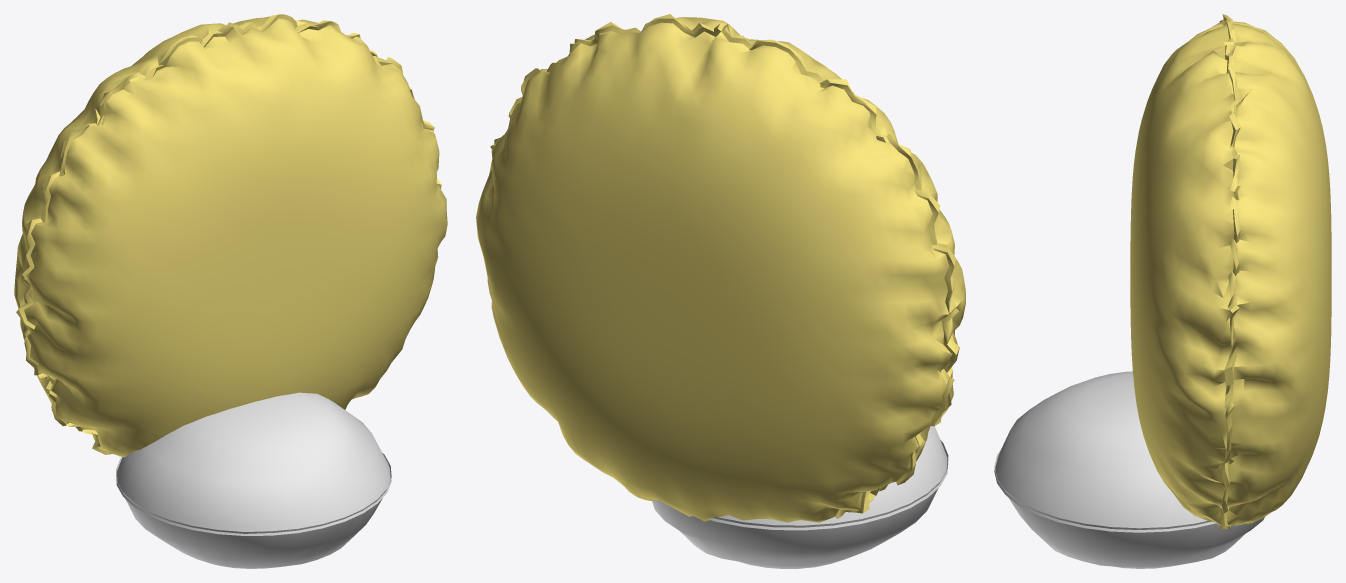
The model's file is smily face.gltf.
3 renders of one model, left to right at view 1: azimuth 30°, elevation 25°; view 2: azimuth 150°, elevation 25°; view 3: azimuth 270°, elevation 25°, orthographic. The views are drawn at different scales.
Visible parts, largest first — view 1: circle ballon.1, Connect; view 2: circle ballon.1, Connect; view 3: circle ballon.1, Connect.
Boxes of the visible parts, bbox=[...] form: circle ballon.1: bbox=[14, 14, 447, 457]; Connect: bbox=[116, 392, 391, 568]; circle ballon.1: bbox=[476, 14, 965, 522]; Connect: bbox=[652, 426, 948, 568]; circle ballon.1: bbox=[1130, 14, 1331, 529]; Connect: bbox=[994, 371, 1264, 568].
Bounding box in the file's own units: 352 × 388 × 232.
